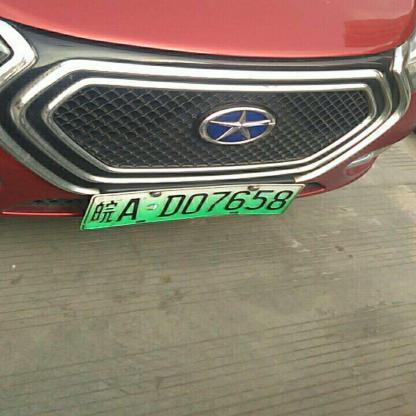lp: (83, 185, 302, 230)
